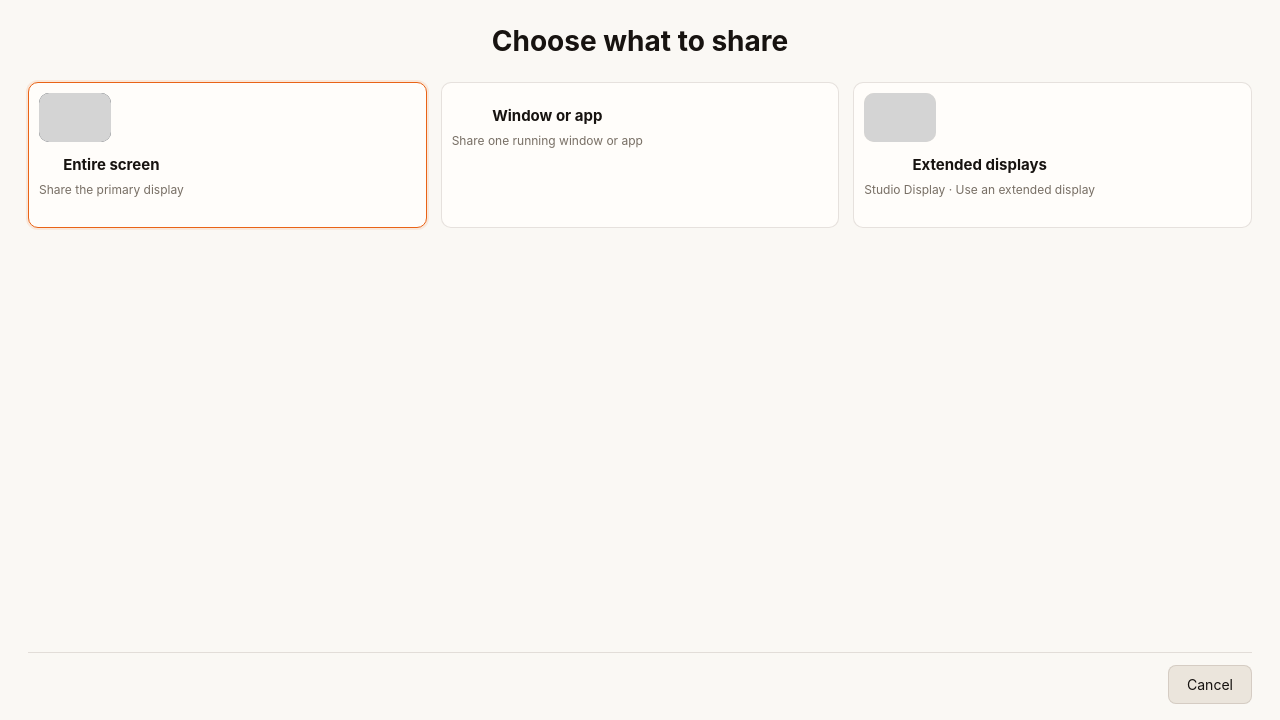
Test: SourcePicker › opens the running-window list only after choosing window or app
This screenshot has width=1280, height=720.
Click the button "Window or app Share one running window or app" at (547, 116), box [441,82,839,228]
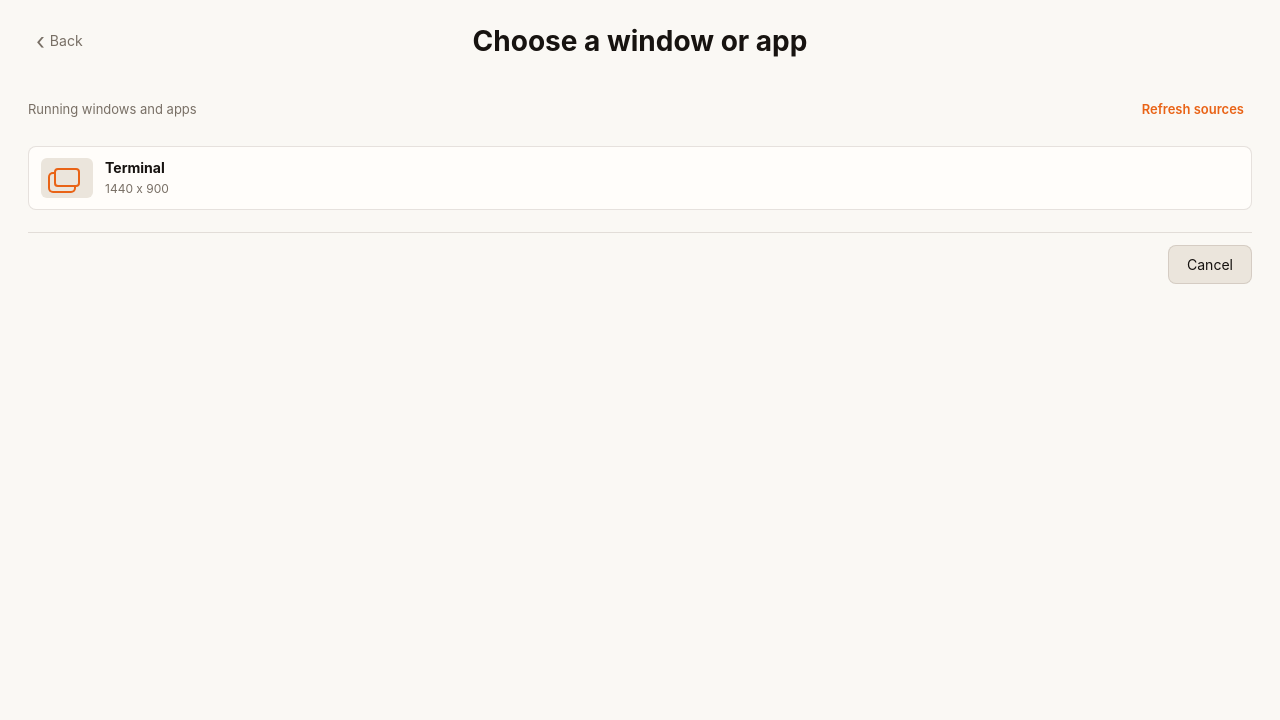
Check: the heading "Choose a window or app" is shown, box [473,20,807,62]
Check: the button "Terminal 1440 x 900" is shown, box [28,146,1252,210]
